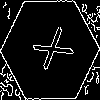X: (25, 25, 74, 78)
